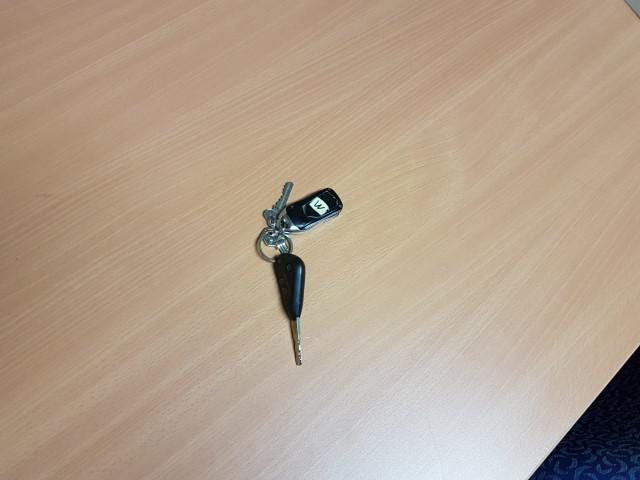key: (273, 253, 305, 367)
